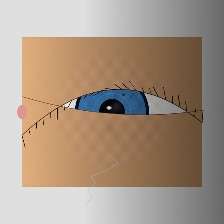foreign_body_visible: (85, 115, 108, 133)
